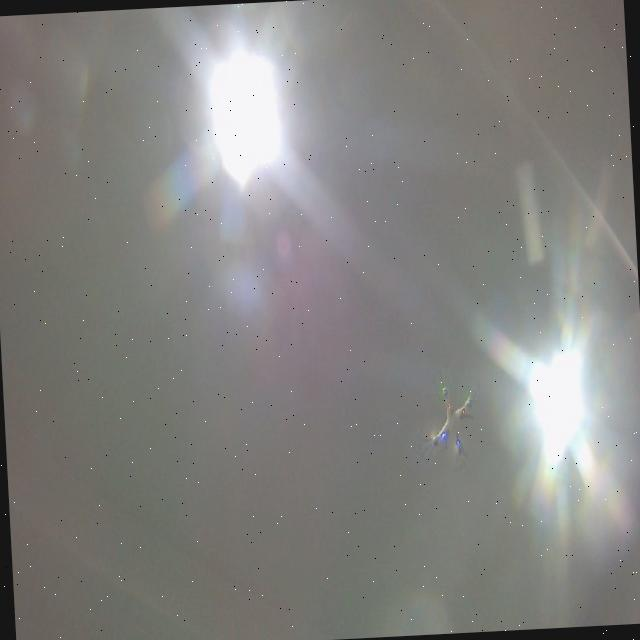drone: (410, 359, 487, 478)
